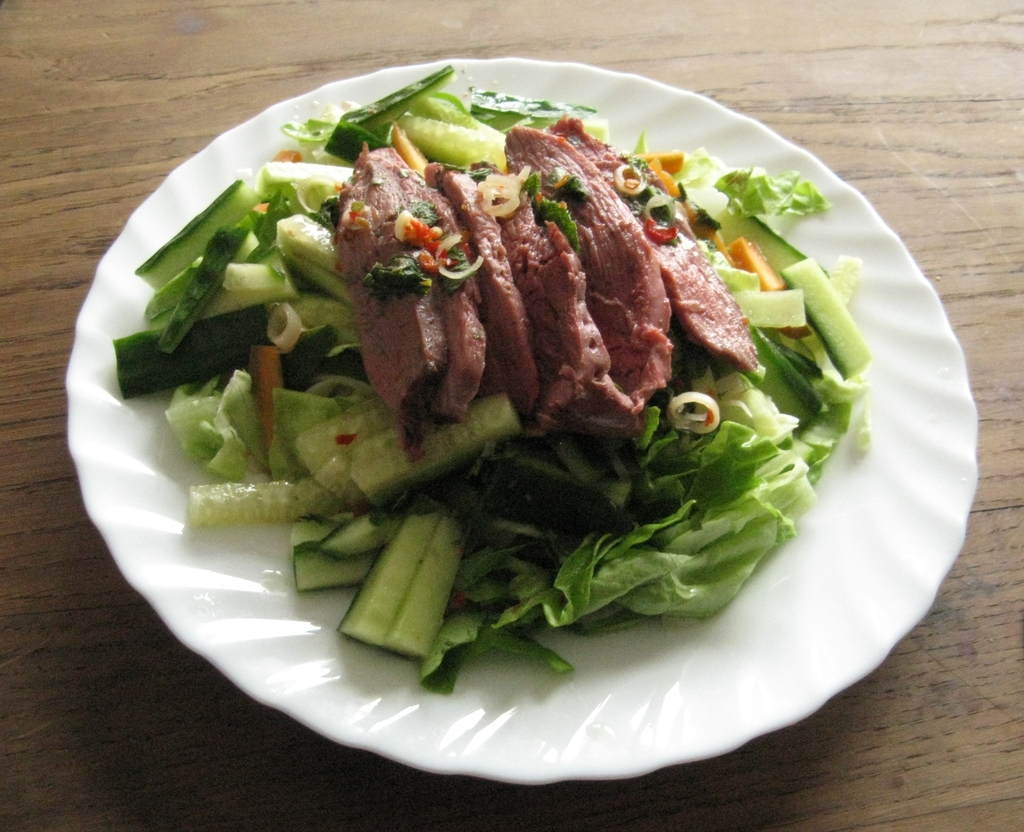Cabbage: (419, 374, 871, 696), (166, 366, 373, 482), (666, 149, 831, 217), (286, 288, 360, 359)
